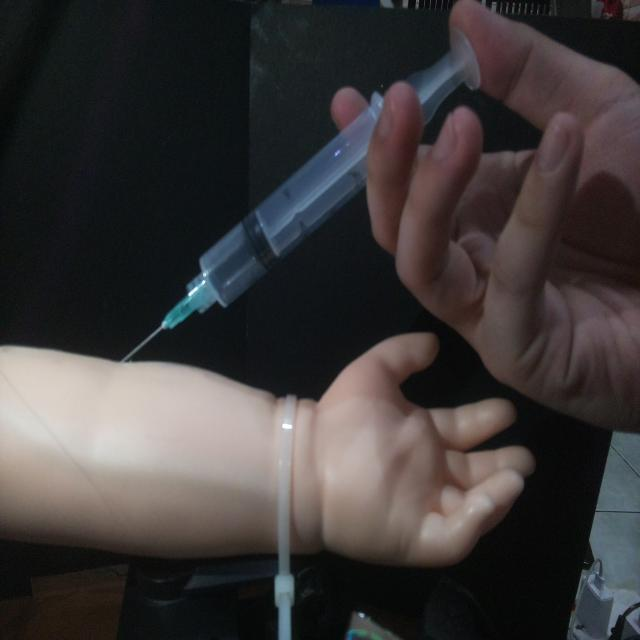30deg: (114, 27, 483, 366)
